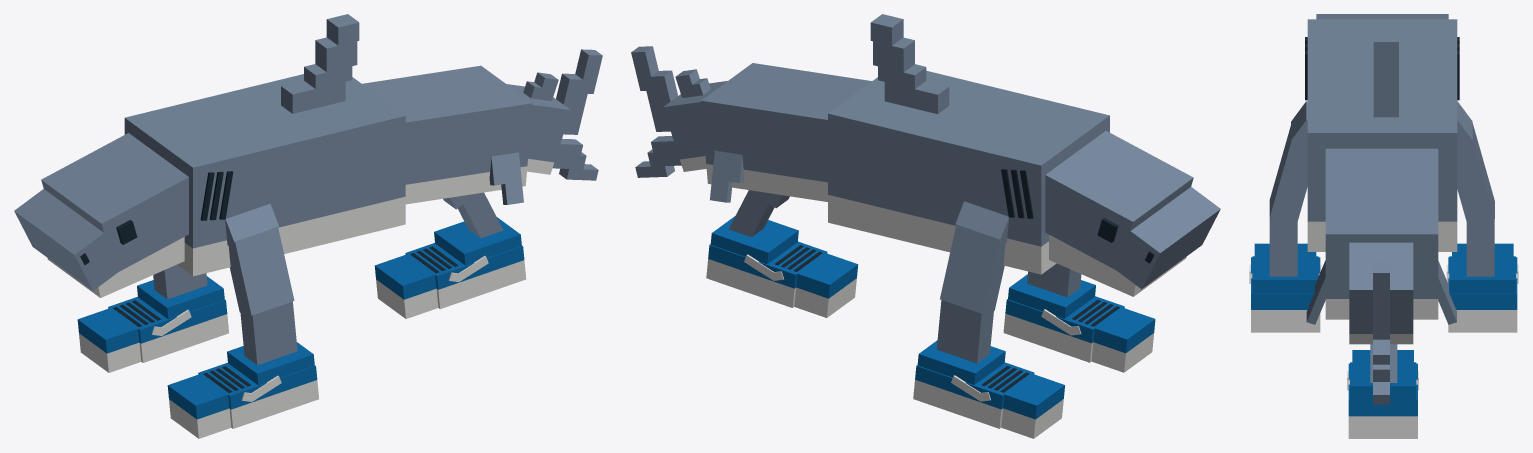
The model's file is Tralalero_Tralala.fbx.
The picture shows the model from 3 angles, left to right: view 1: azimuth 30°, elevation 25°; view 2: azimuth 150°, elevation 25°; view 3: azimuth 270°, elevation 25°; orthographic projection. The views are drawn at different scales.
Parts seen in each view (by area): view 1: Tralalero_Tralala; view 2: Tralalero_Tralala; view 3: Tralalero_Tralala.
Boxes of the visible parts, box(x1,y1,x2,y2) form: Tralalero_Tralala: box(14, 14, 602, 438); Tralalero_Tralala: box(631, 14, 1220, 438); Tralalero_Tralala: box(1249, 14, 1518, 438).
Size of the model in its own units: 1179 by 659 by 452.
